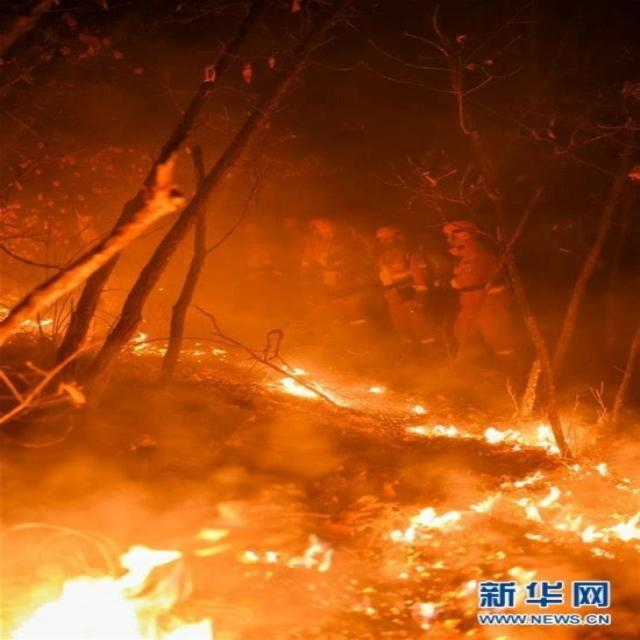Fire: (1, 463, 640, 640), (404, 418, 564, 456), (274, 363, 358, 409), (127, 331, 228, 356), (18, 316, 52, 327)
Smoke: (1, 75, 640, 640)
